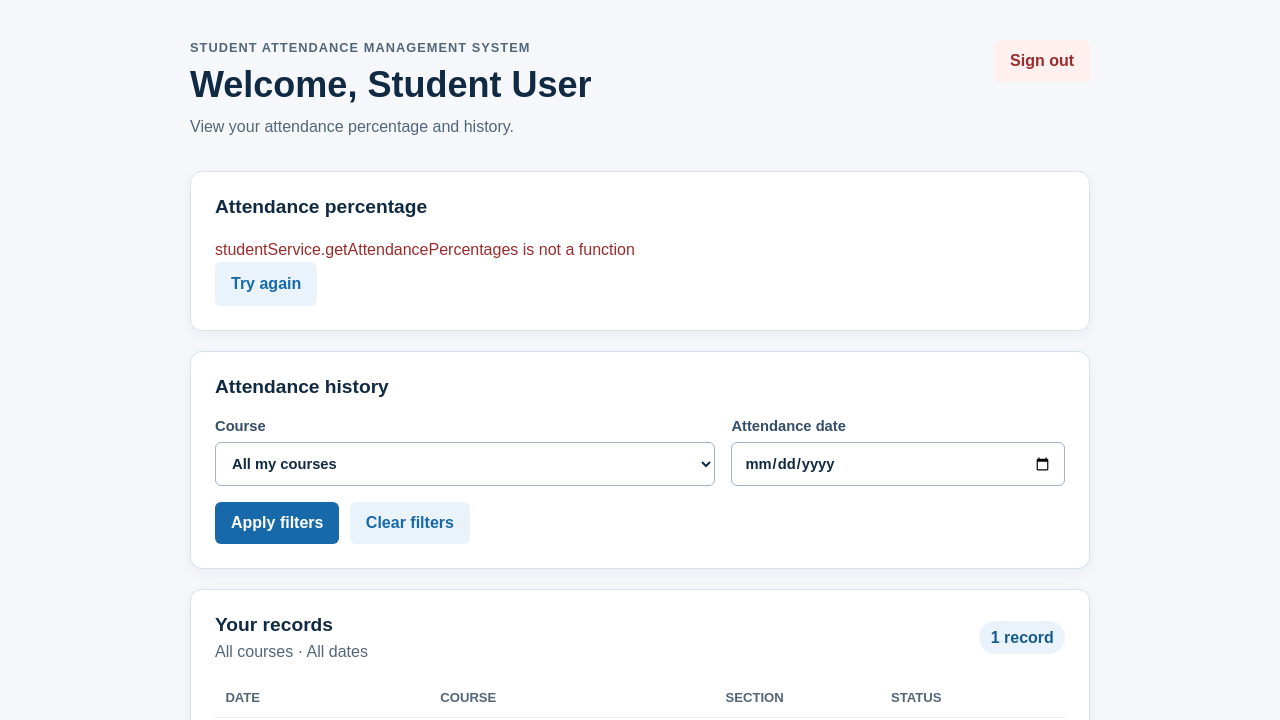
Test case: applies course and date filters and clears stale results while editing
Step 1. Select "CS301 — Database Systems" in the dropdown with id "history-course" → (465, 464), box [215, 442, 715, 486]
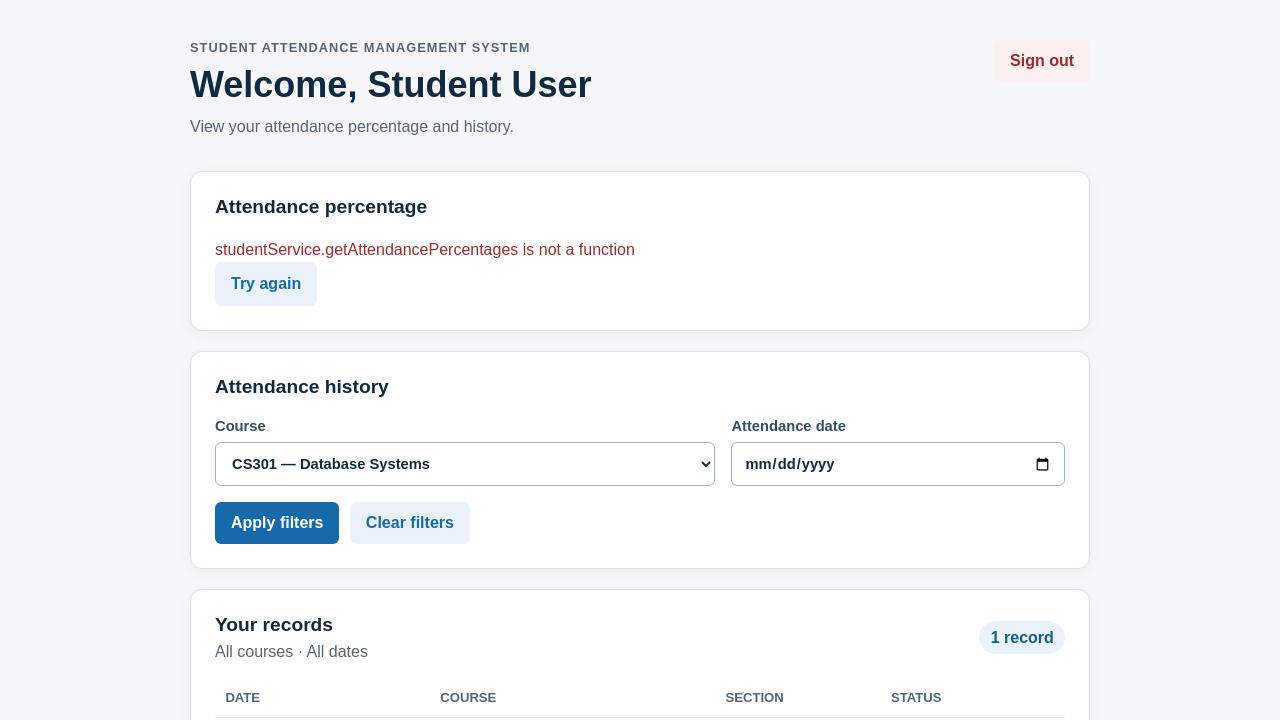
Step 2. Select "CS301 — Database Systems" in the dropdown with id "history-course" → (465, 464), box [215, 442, 715, 486]
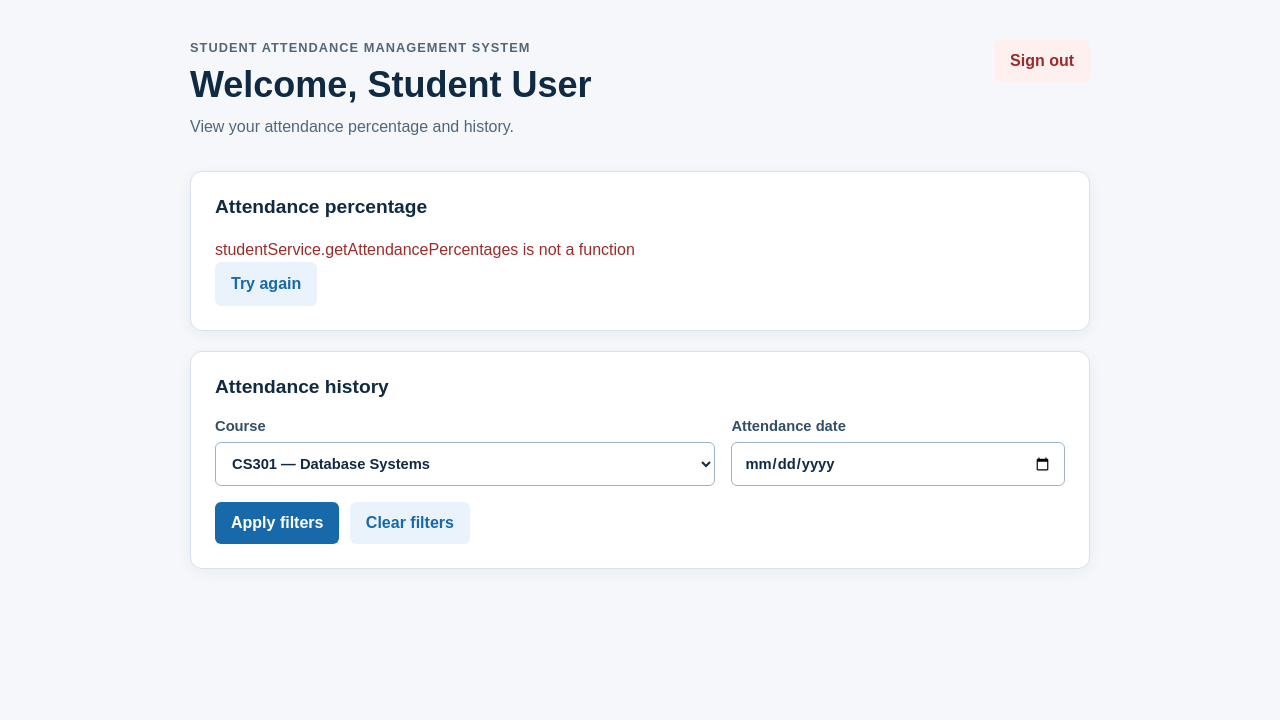
Expected: the text "2026-10-20" is not shown
Step 3. Type "2026-10-20" into the date field with id "history-date" → (898, 464), box [731, 442, 1065, 486]
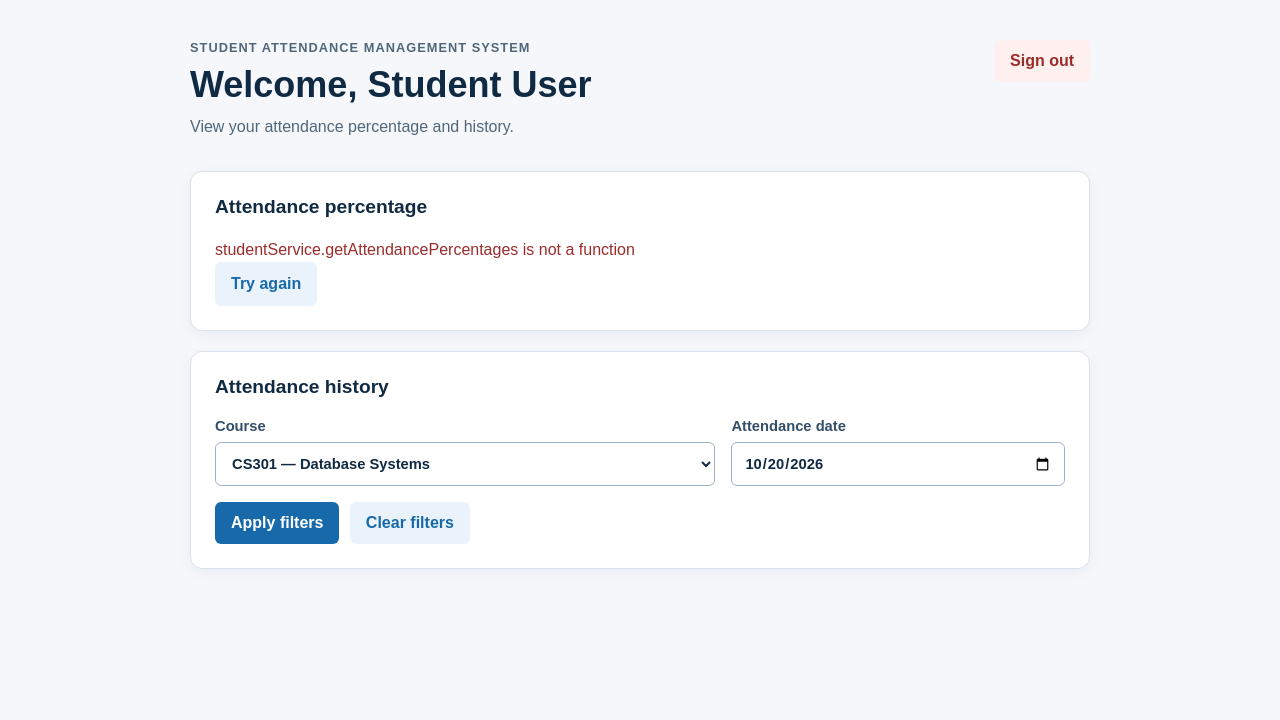
Step 4. Submit the form, box [215, 418, 1065, 544]
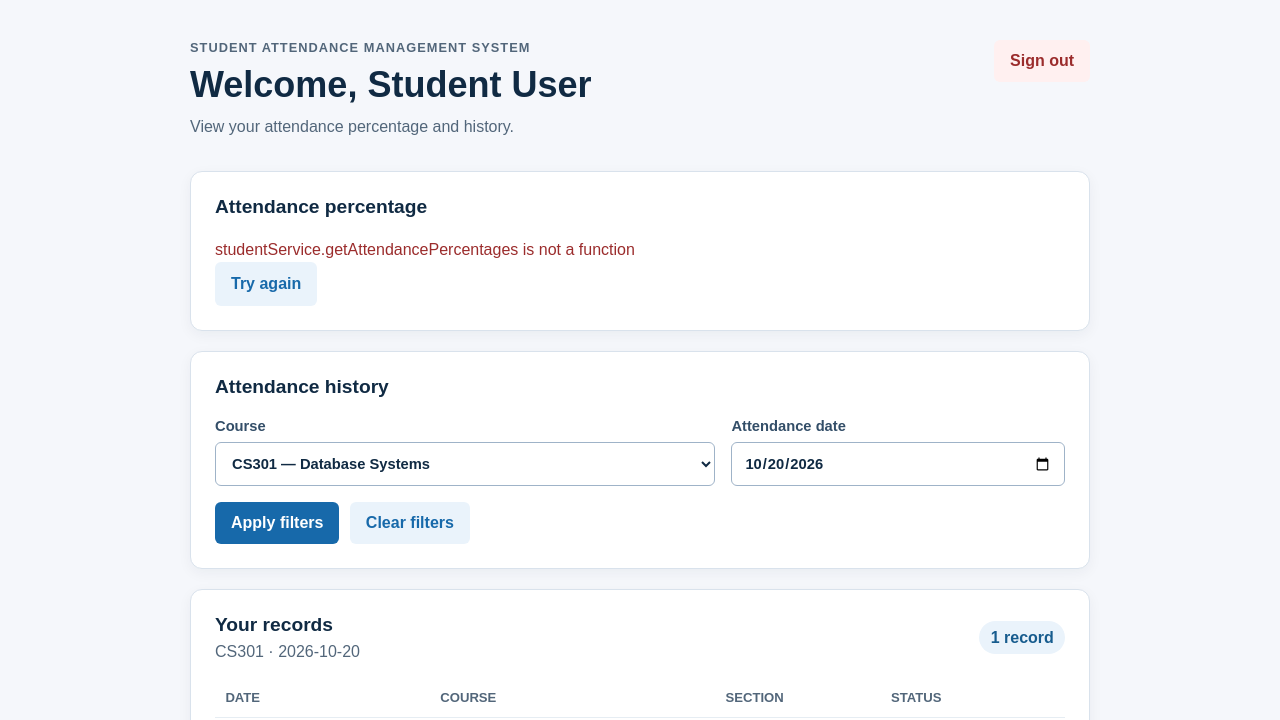
Expected: the text "2026-10-20" is shown, [264, 643, 360, 660]
